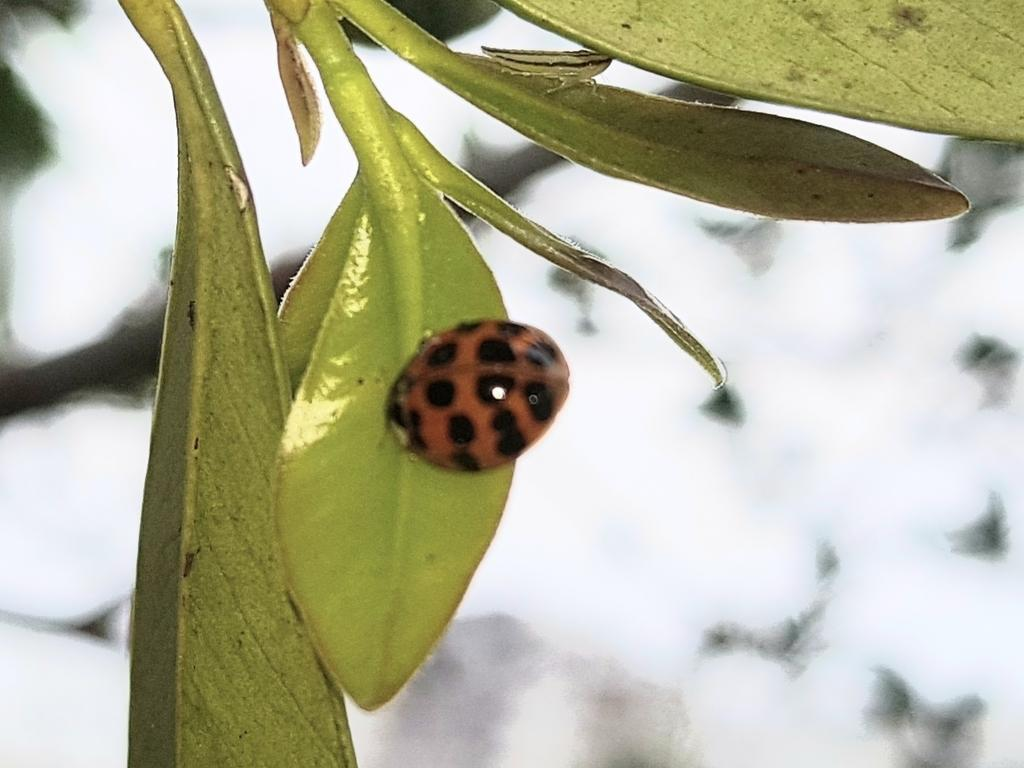ladybug: (375, 319, 575, 475)
